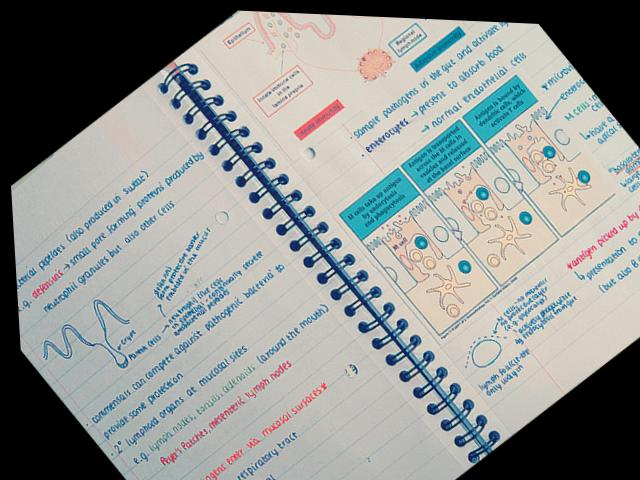paper: (0, 1, 639, 477)
